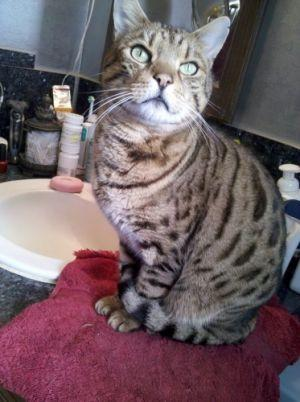bengal: (98, 1, 239, 133)
